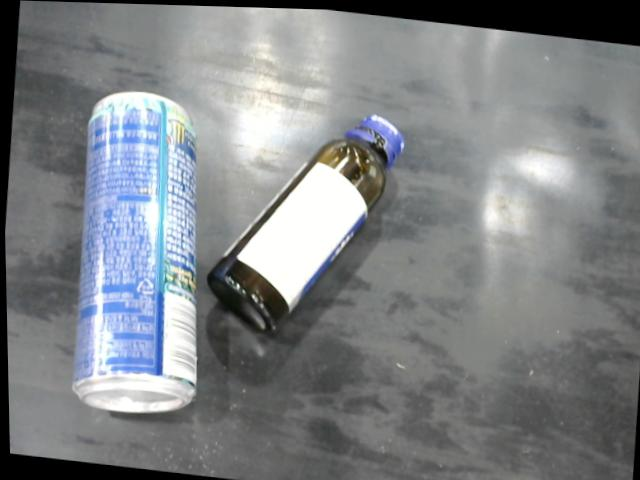trash: (209, 100, 424, 351), (66, 80, 196, 434)
